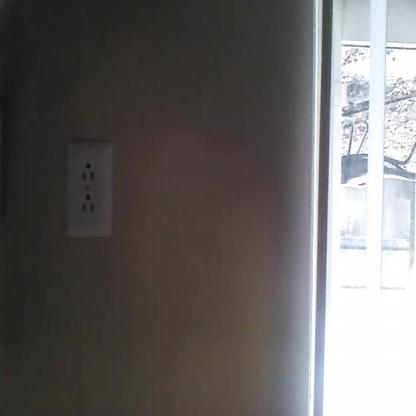OUTLET: (66, 142, 112, 240)
